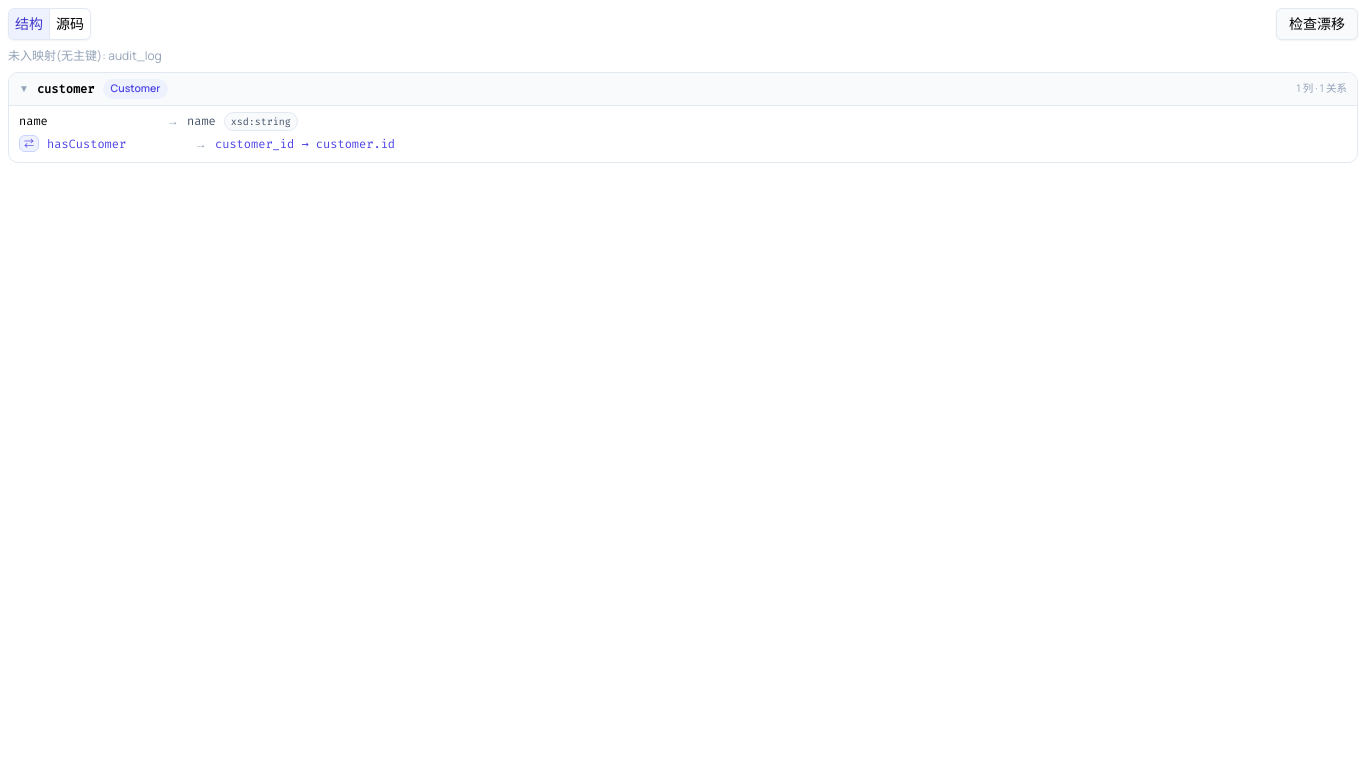
Test case: R2rmlPage drift check fallback › falls back to the picker when the saved connection is gone (404)
Click the button "检查漂移" at {"x": 1317, "y": 24}, box [1276,8,1358,40]
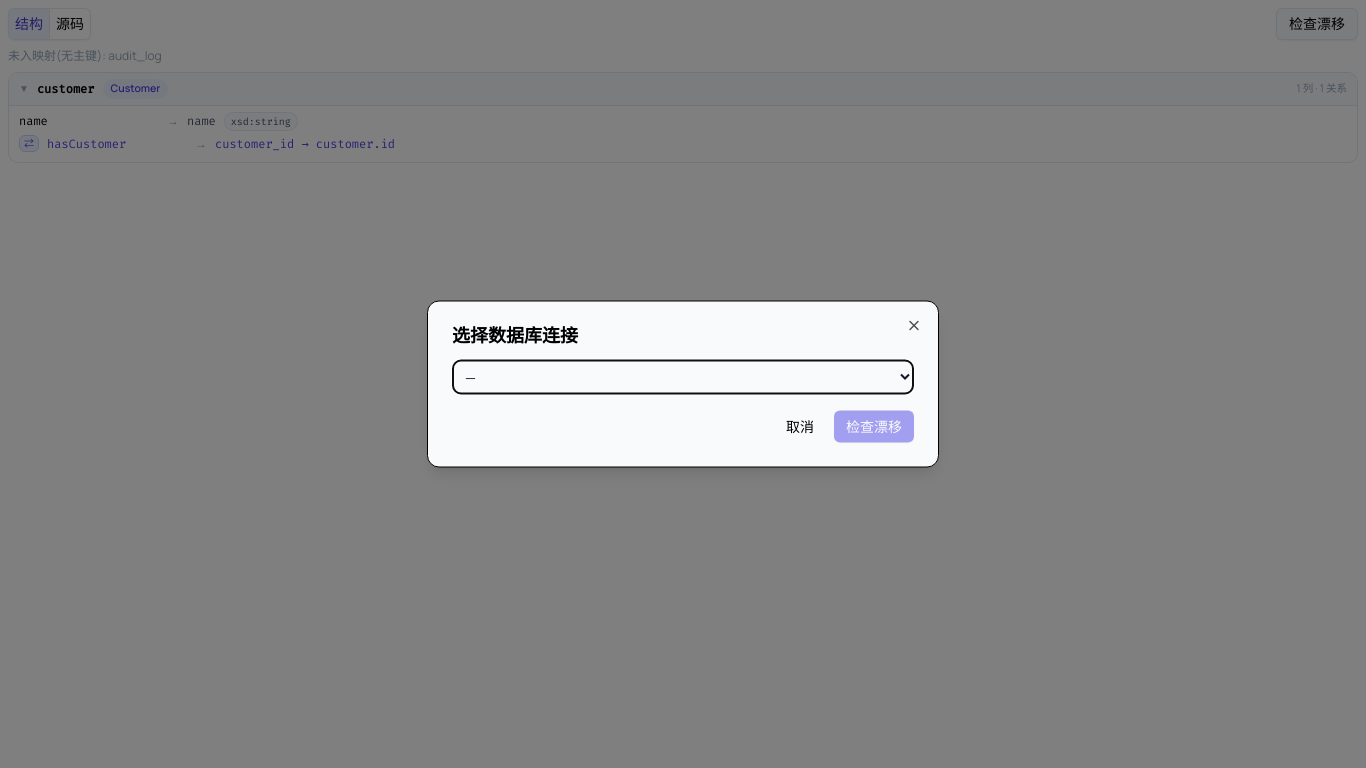
expect the dropdown named "数据库连接" is shown: met, box [452,360,914,394]
